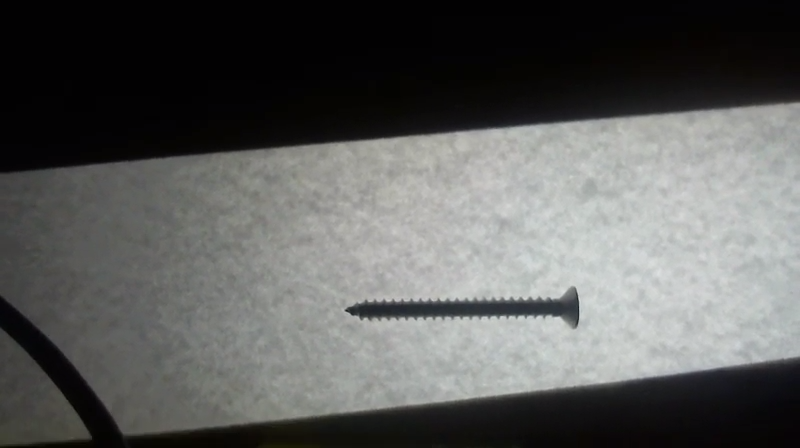S002: (341, 282, 583, 333)
